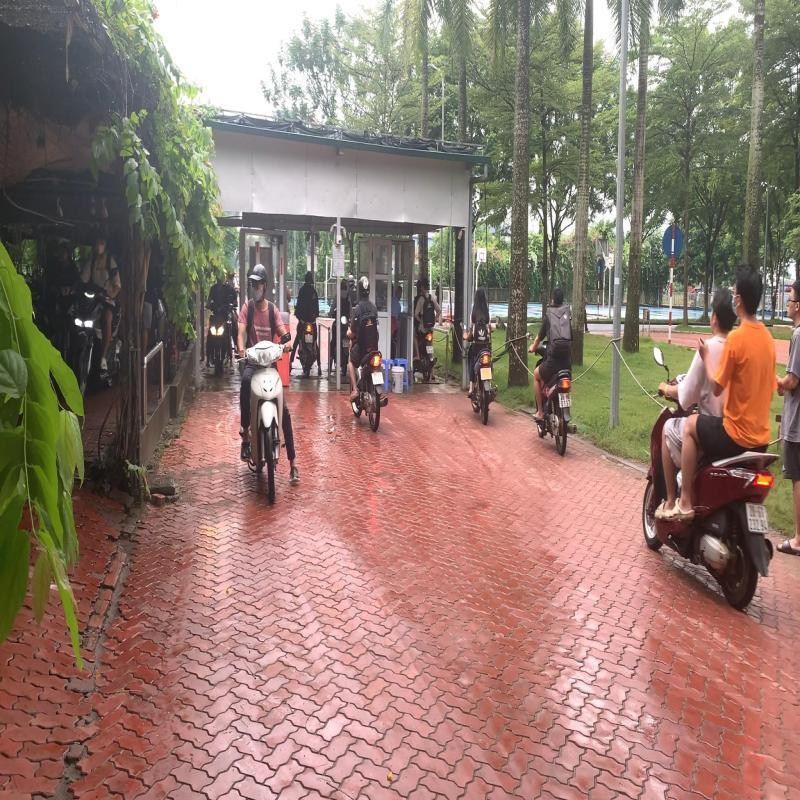licenseplate: (746, 502, 770, 534)
motorcyclist: (641, 259, 781, 612)
nohelmet: (732, 264, 763, 319), (710, 288, 736, 330)
